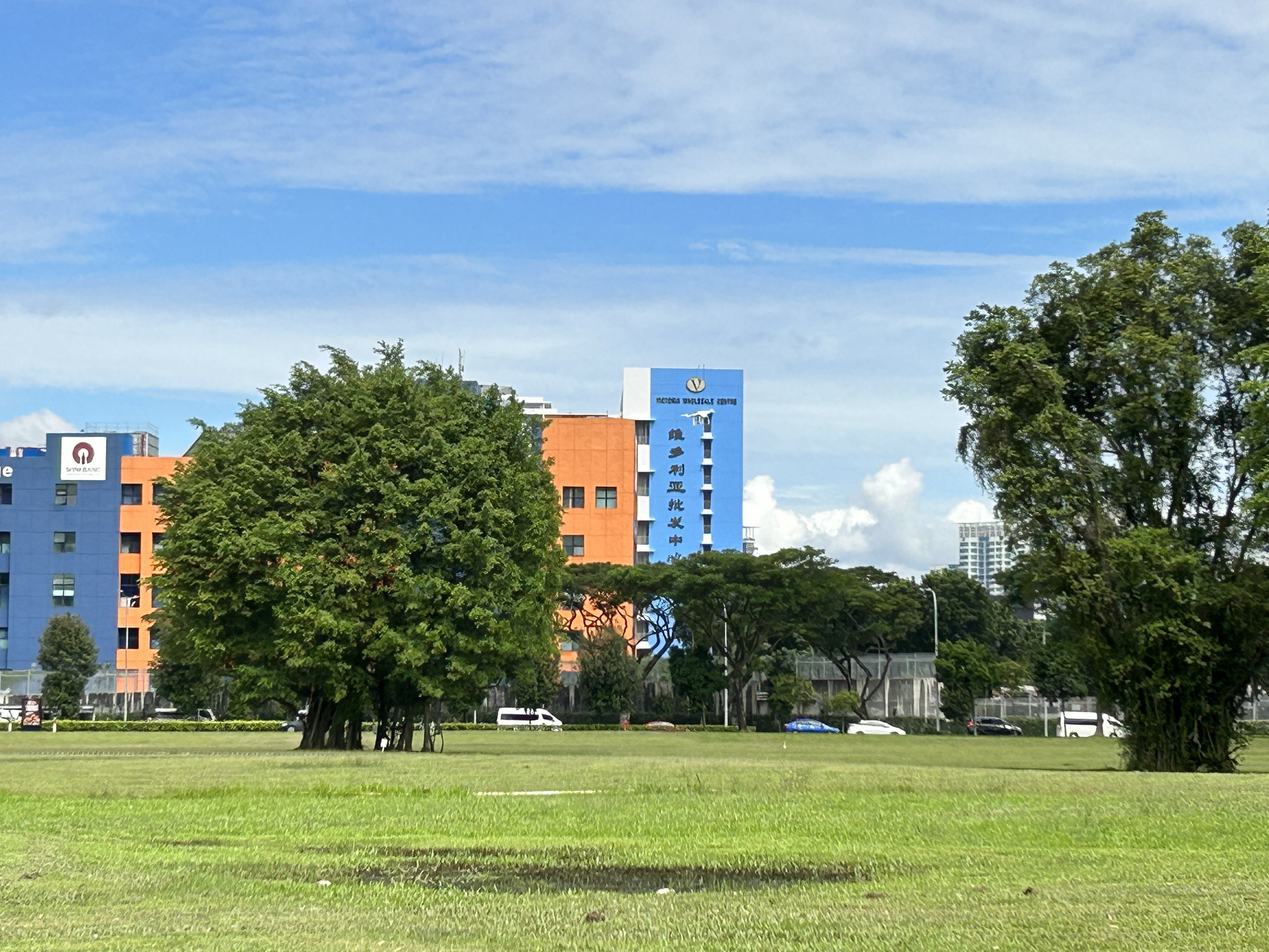drone_other: (680, 408, 716, 427)
